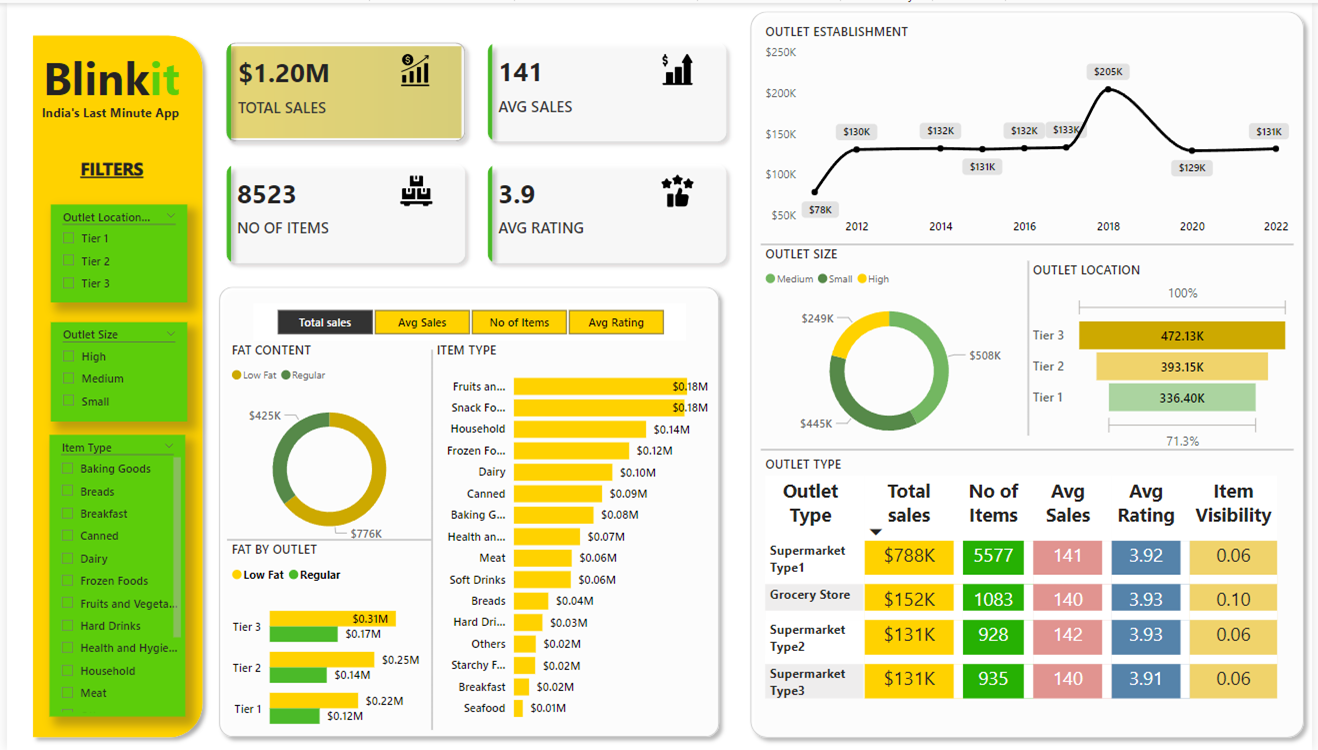

The dashboard page shown, as its layout file describes it:
{"tool":"powerbi","page":{"name":"Dashboard","canvas":[1400,800],"ordinal":0},"visuals":[{"type":"shape","box":[18.3,25,200,770],"z":0},{"type":"textbox","box":[32.9,41.4,171.4,81.4],"z":1000},{"type":"textbox","box":[32.7,102.7,181.3,37.3],"z":2000},{"type":"cardVisual","fields":{"Data":["BlinkIT Grocery Data.Total sales","BlinkIT Grocery Data.Avg Sales","BlinkIT Grocery Data.No of Items","BlinkIT Grocery Data.Avg Rating"]},"box":[218.3,25,570,270],"z":3000},{"type":"shape","box":[219,295,554,500],"z":4000},{"type":"donutChart","title":"FAT CONTENT","fields":{"Y":["BlinkIT Grocery Data.Total sales"],"Category":["BlinkIT Grocery Data.Item Fat Content"]},"box":[235.7,361.4,220,230],"z":5000},{"type":"slicer","fields":{"Values":["Matrix.Matrix"]},"box":[264.3,321.4,464.3,40],"z":6000},{"type":"clusteredBarChart","title":"FAT BY OUTLET","fields":{"Y":["BlinkIT Grocery Data.Total sales"],"Category":["BlinkIT Grocery Data.Outlet Location Type"],"Series":["BlinkIT Grocery Data.Item Fat Content"]},"box":[235.7,574.3,220,221.4],"z":7000},{"type":"shape","box":[235.7,522.9,220,104.3],"z":8000},{"type":"shape","box":[345.7,371.4,220,407.1],"z":9000},{"type":"barChart","title":"ITEM TYPE","fields":{"Y":["BlinkIT Grocery Data.Total sales"],"Category":["BlinkIT Grocery Data.Item Type"]},"box":[455.7,361.4,301.4,417.1],"z":10000},{"type":"shape","box":[788.6,0,611.4,795.7],"z":11000},{"type":"lineChart","title":"OUTLET ESTABLISHMENT","fields":{"Y":["BlinkIT Grocery Data.Total sales"],"Category":["BlinkIT Grocery Data.Outlet Establishment Year"]},"box":[808.6,21.4,571.4,235.7],"z":12000},{"type":"shape","box":[808.6,205.7,571.4,104.3],"z":13000},{"type":"donutChart","title":"OUTLET SIZE","fields":{"Y":["BlinkIT Grocery Data.Total sales"],"Category":["BlinkIT Grocery Data.Outlet Size"]},"box":[808.6,258.6,275.7,225.7],"z":14000},{"type":"shape","box":[984.3,275.7,220,187.1],"z":15000},{"type":"funnel","title":"OUTLET LOCATION","fields":{"Category":["BlinkIT Grocery Data.Outlet Location Type"],"Y":["Sum(BlinkIT Grocery Data.Sales)"]},"box":[1094.3,275.7,285.7,208.6],"z":16000},{"type":"shape","box":[808.6,425.7,571.4,104.3],"z":17000},{"type":"pivotTable","title":"OUTLET TYPE","fields":{"Rows":["BlinkIT Grocery Data.Outlet Type"],"Values":["BlinkIT Grocery Data.Total sales","BlinkIT Grocery Data.No of Items","BlinkIT Grocery Data.Avg Sales","BlinkIT Grocery Data.Avg Rating","Avg(BlinkIT Grocery Data.Item Visibility)"]},"box":[808.6,484.3,571.4,294.3],"z":18000},{"type":"slicer","fields":{"Values":["BlinkIT Grocery Data.Outlet Location Type"]},"box":[46.2,216.2,146.2,105],"z":19000},{"type":"slicer","fields":{"Values":["BlinkIT Grocery Data.Outlet Size"]},"box":[46.2,341.2,146.2,106.2],"z":20000},{"type":"slicer","fields":{"Values":["BlinkIT Grocery Data.Item Type"]},"box":[45.7,462.9,145.7,301.4],"z":21000},{"type":"textbox","box":[74.3,160,87.1,45.7],"z":24001}]}

Visuals, with their boxes in screenshot pixels (x1, y1, x2, y2), scaled from the page's 1400x800 canvas onto the 1318x750 screenshot:
shape: BBox(17, 23, 206, 745)
textbox: BBox(31, 39, 192, 115)
textbox: BBox(31, 96, 201, 131)
cardVisual - BlinkIT Grocery Data.Total sales x BlinkIT Grocery Data.Avg Sales: BBox(206, 23, 742, 277)
shape: BBox(206, 277, 728, 745)
"FAT CONTENT" donutChart: BBox(222, 339, 429, 554)
slicer - Matrix.Matrix: BBox(249, 301, 686, 339)
"FAT BY OUTLET" clusteredBarChart: BBox(222, 538, 429, 746)
shape: BBox(222, 490, 429, 588)
shape: BBox(325, 348, 533, 730)
"ITEM TYPE" barChart: BBox(429, 339, 713, 730)
shape: BBox(742, 0, 1317, 746)
"OUTLET ESTABLISHMENT" lineChart: BBox(761, 20, 1299, 241)
shape: BBox(761, 193, 1299, 291)
"OUTLET SIZE" donutChart: BBox(761, 242, 1021, 454)
shape: BBox(927, 258, 1134, 434)
"OUTLET LOCATION" funnel: BBox(1030, 258, 1299, 454)
shape: BBox(761, 399, 1299, 497)
"OUTLET TYPE" pivotTable: BBox(761, 454, 1299, 730)
slicer - BlinkIT Grocery Data.Outlet Location Type: BBox(43, 203, 181, 301)
slicer - BlinkIT Grocery Data.Outlet Size: BBox(43, 320, 181, 419)
slicer - BlinkIT Grocery Data.Item Type: BBox(43, 434, 180, 717)
textbox: BBox(70, 150, 152, 193)
